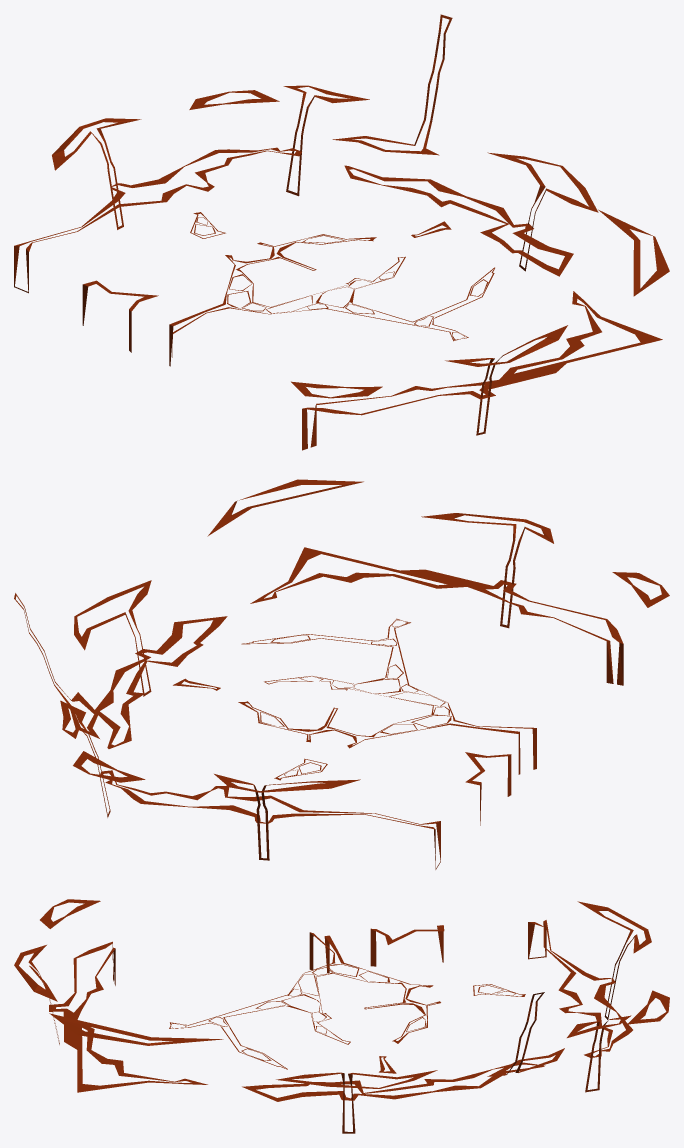
The model's file is Lava_02.FBX.
3 renders of one model, top to bottom at view 1: azimuth 30°, elevation 25°; view 2: azimuth 150°, elevation 25°; view 3: azimuth 270°, elevation 25°, orthographic. The views are drawn at different scales.
Visible parts, largest first — view 1: Lava_02; view 2: Lava_02; view 3: Lava_02.
Part boxes in pixels (box(x1,y1,x2,y2)): Lava_02: box(14, 14, 669, 450); Lava_02: box(14, 479, 669, 869); Lava_02: box(14, 899, 669, 1133).
Size of the model in its own units: 21.25 by 7.57 by 29.15.
